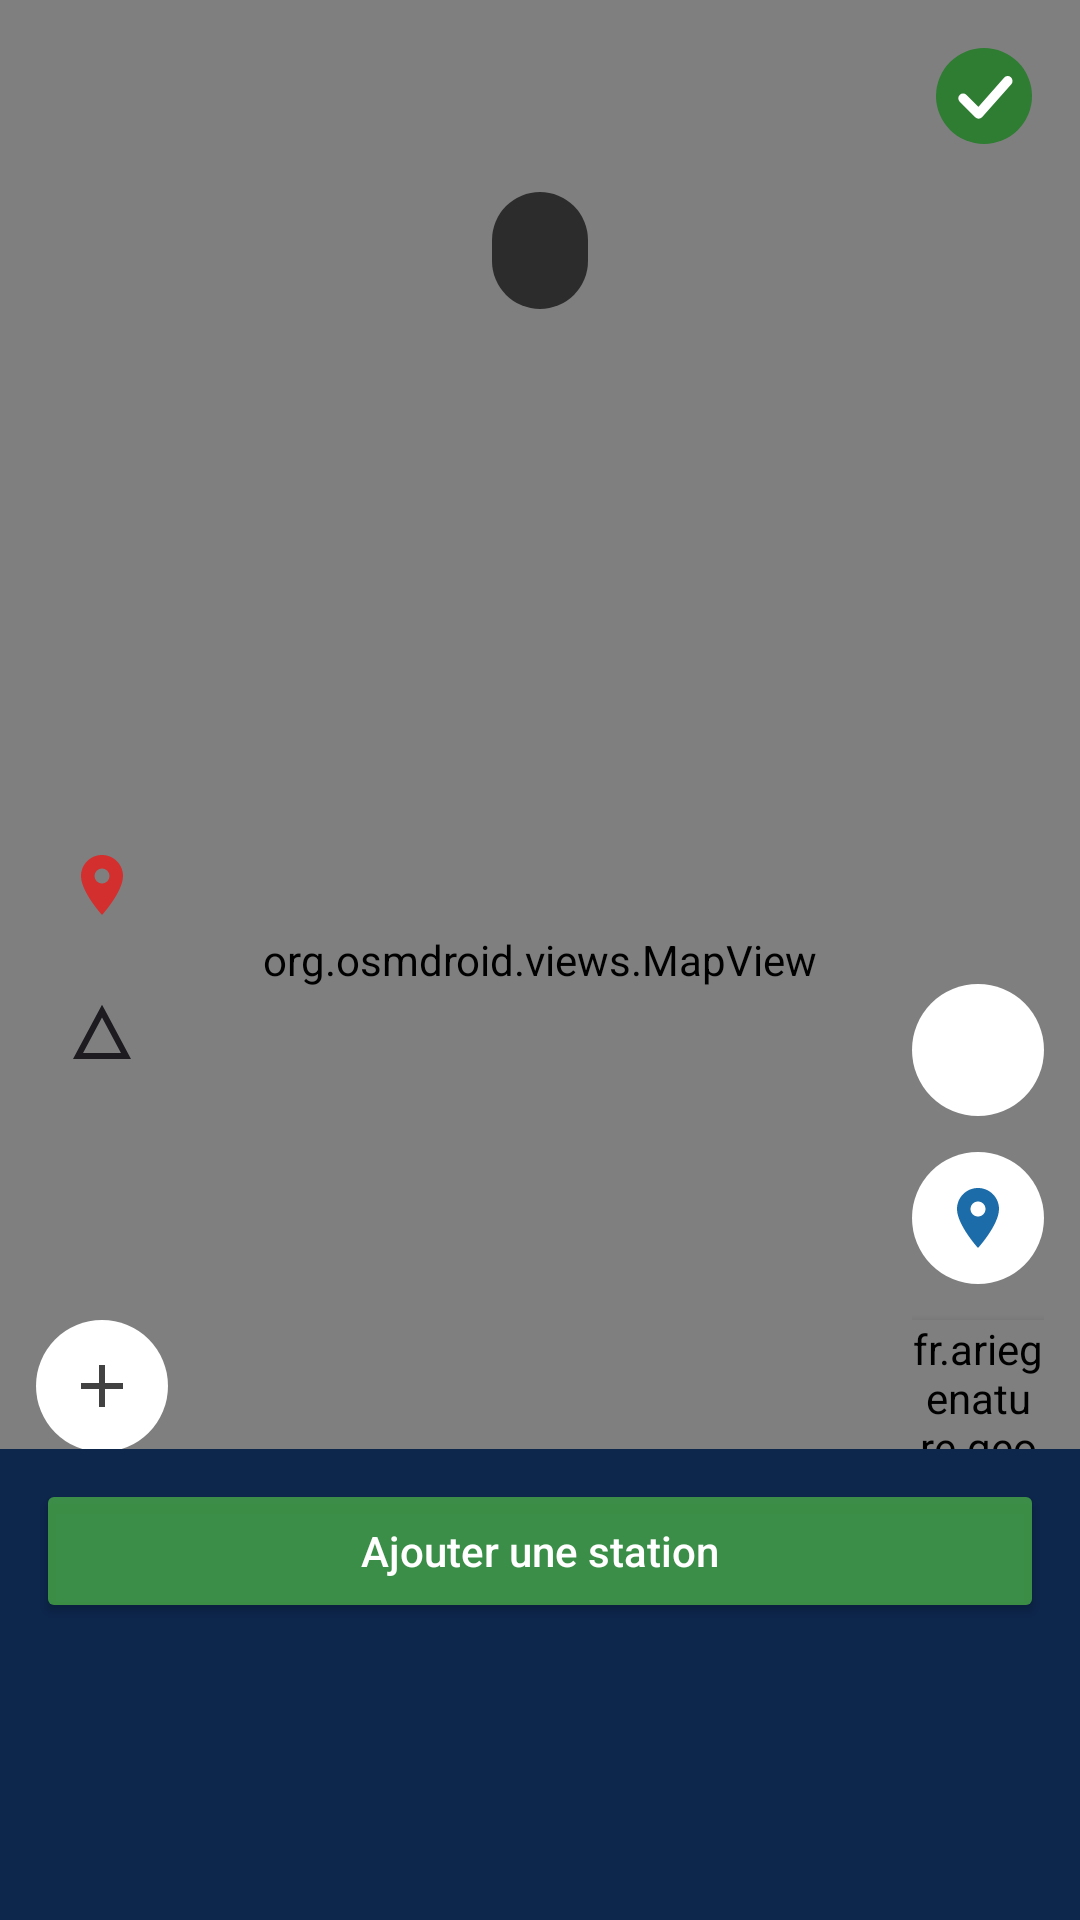

Named icons in this screenshot (1080 × 1920) and their bounding boxes, (x1, y1, x2, y2):
Centrer: (912, 1152, 1044, 1284)
Saisir un point: (81, 855, 123, 915)
Saisir un polygone: (73, 1005, 131, 1059)
Terminer la saisie: (936, 48, 1032, 144)
Zoom avant: (36, 1320, 168, 1452)
